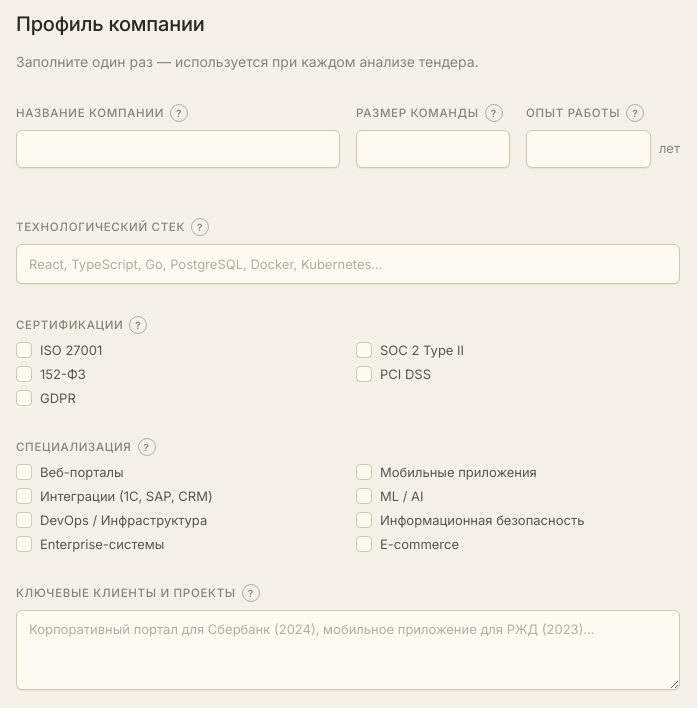
Test case: CompanyProfile (RU) › adds tag on comma
Type "Python," into the field with placeholder "React, TypeScript, Go, PostgreSQL, Docker, Kubernetes…" at [348, 264], box [27,253,669,275]
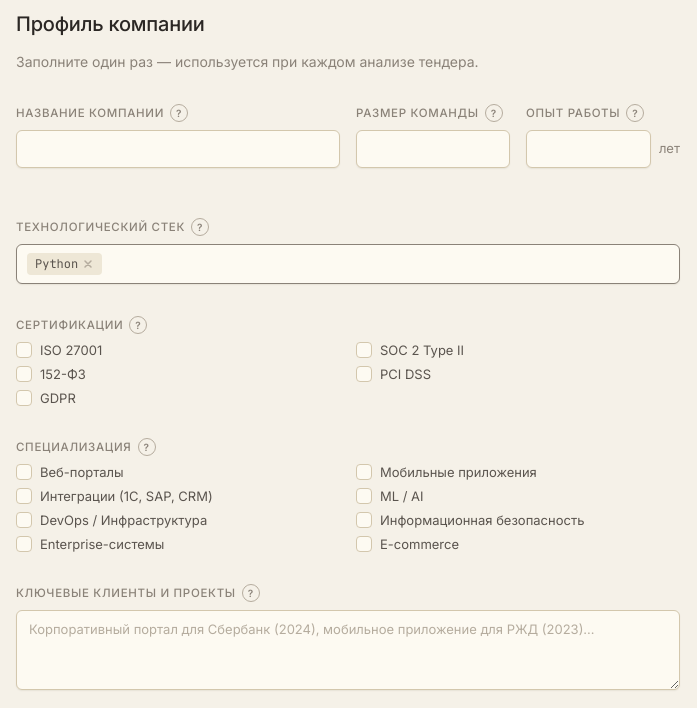
expect the text "Python" is shown: met, box [27,253,102,275]
